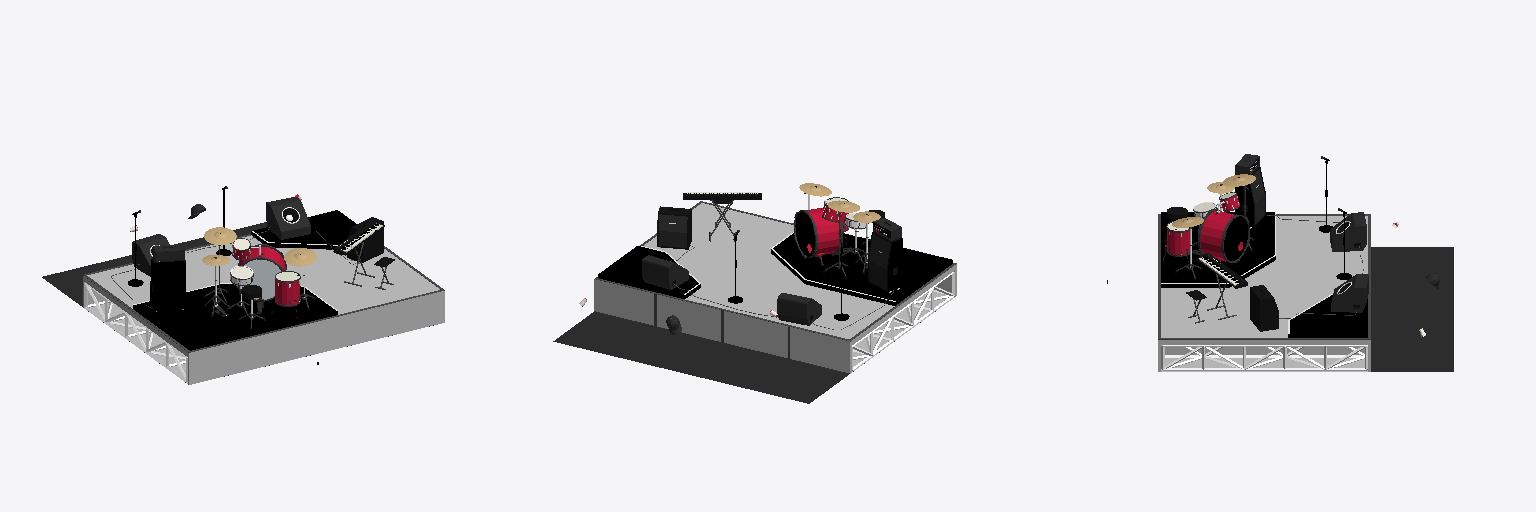
Rendered from mademoisellek_base-scene.obj.
The picture shows the model from 3 angles: view 1: azimuth 30°, elevation 25°; view 2: azimuth 150°, elevation 25°; view 3: azimuth 270°, elevation 25°; orthographic projection.
Visible parts, largest first — view 1: Base_scène, Base_batterie, Base_avant, Cylinder, Structures, Base, Speaker_gauche, Cylinder_53, Cube, Speaker_droite, Cylinder.9_5, Clavier; view 2: Base_scène, Base, Base_batterie, Base_avant, Cylinder, Structures, Cylinder_54, Cube, Speaker_gauche, Speaker_droite, Clavier; view 3: Base_scène, Base, Base_batterie, Structures, Base_avant, Cylinder_54, Speaker_droite, Speaker_gauche, Cube, Cylinder, Clavier, Cylinder.9_5.
Part boxes in pixels (x1,y1,x2,y2): Base_scène: (83, 234, 444, 384); Base_batterie: (133, 283, 337, 350); Base_avant: (251, 210, 356, 249); Cylinder: (150, 257, 185, 310); Structures: (85, 282, 187, 381); Base: (42, 222, 433, 382); Speaker_gauche: (266, 197, 310, 239); Cylinder_53: (240, 259, 280, 299); Cube: (347, 217, 383, 262); Speaker_droite: (132, 234, 169, 276); Cylinder.9_5: (275, 272, 299, 304); Clavier: (334, 219, 384, 255); Base_scène: (594, 201, 956, 373); Base: (553, 311, 935, 403); Base_batterie: (771, 232, 952, 305); Base_avant: (598, 245, 700, 298); Cylinder: (868, 232, 902, 291); Structures: (852, 272, 954, 370); Cylinder_54: (795, 208, 840, 256); Cube: (657, 206, 691, 249); Speaker_gauche: (642, 255, 688, 289); Speaker_droite: (777, 293, 821, 325); Clavier: (683, 192, 761, 199); Base_scène: (1158, 214, 1370, 371); Base: (1371, 247, 1453, 371); Base_batterie: (1161, 212, 1275, 287); Structures: (1161, 345, 1367, 370); Base_avant: (1288, 294, 1367, 337); Cylinder_54: (1200, 211, 1247, 261); Speaker_droite: (1330, 212, 1366, 251); Speaker_gauche: (1331, 274, 1368, 312); Cube: (1250, 285, 1278, 331); Cylinder: (1235, 166, 1265, 226); Clavier: (1196, 253, 1247, 288); Cylinder.9_5: (1167, 222, 1189, 254).
Bounding box in the file's own units: 500 × 199 × 587.